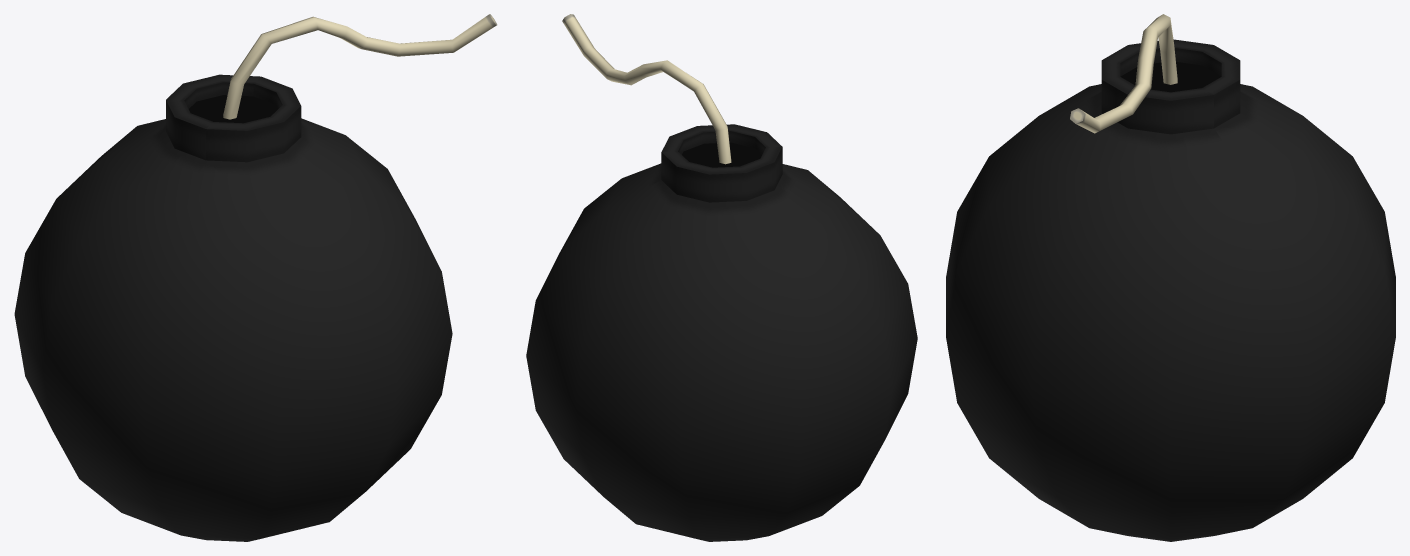
The model's file is bomb.fbx.
3 renders of one model, left to right at view 1: azimuth 30°, elevation 25°; view 2: azimuth 150°, elevation 25°; view 3: azimuth 270°, elevation 25°, orthographic. The views are drawn at different scales.
Parts seen in each view (by area): view 1: bomb; view 2: bomb; view 3: bomb.
Boxes of the visible parts, bbox=[...] form: bomb: bbox=[14, 14, 497, 541]; bomb: bbox=[526, 14, 917, 541]; bomb: bbox=[946, 14, 1395, 541].
Size of the model in its own units: 2.15 by 2.48 by 1.9.
